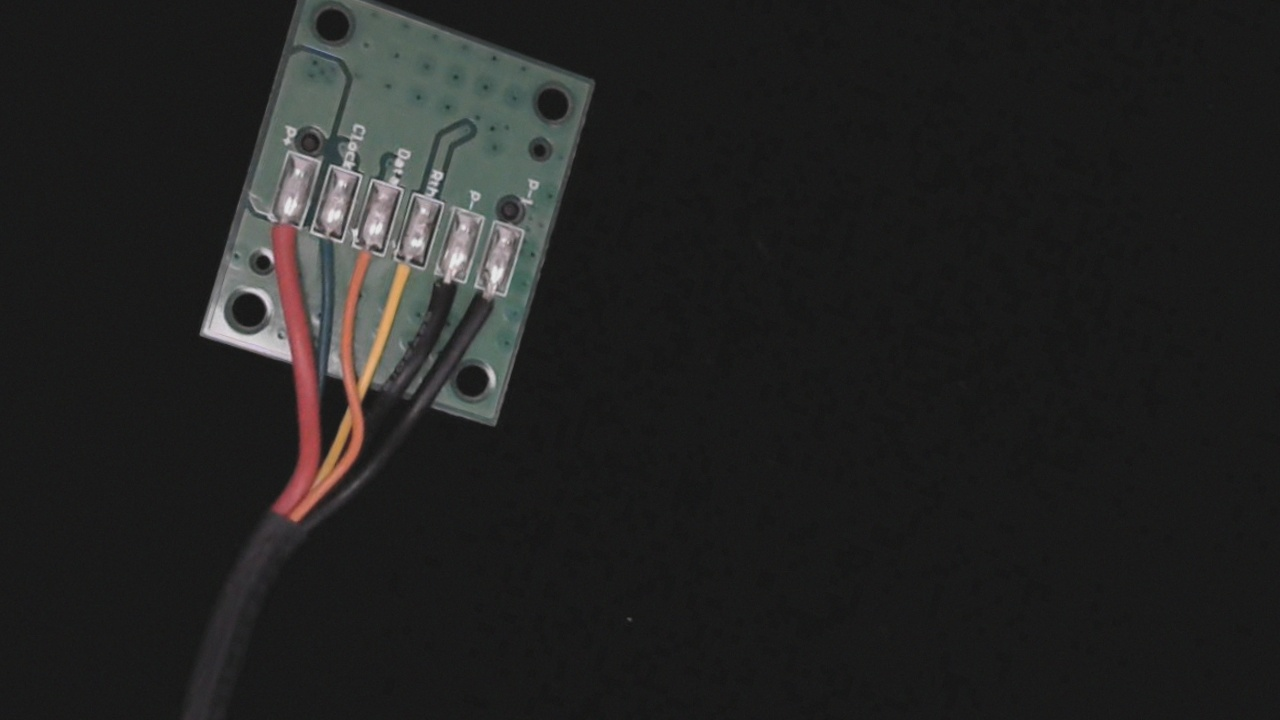Black: (414, 251, 475, 340)
Black1: (460, 265, 518, 348)
Green: (292, 208, 353, 295)
Orange: (333, 223, 392, 311)
Red: (250, 194, 310, 281)
Yellow: (373, 237, 435, 328)
